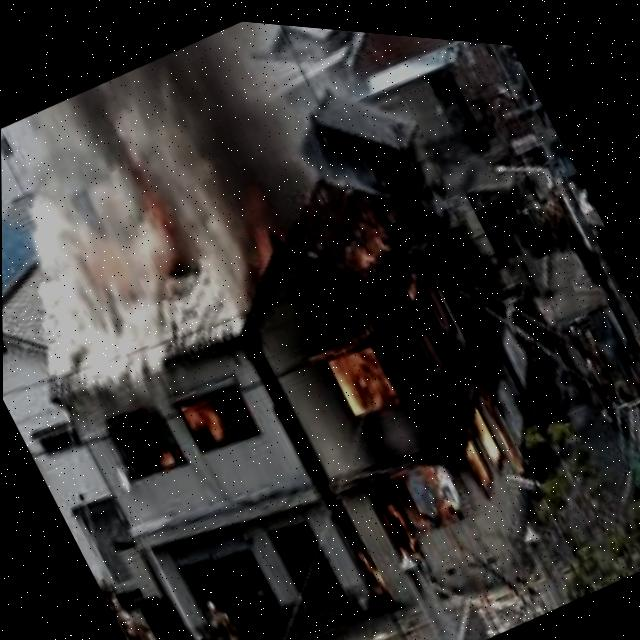Fire: (240, 232, 566, 611), (174, 364, 261, 457)
Smoke: (0, 0, 397, 441)
